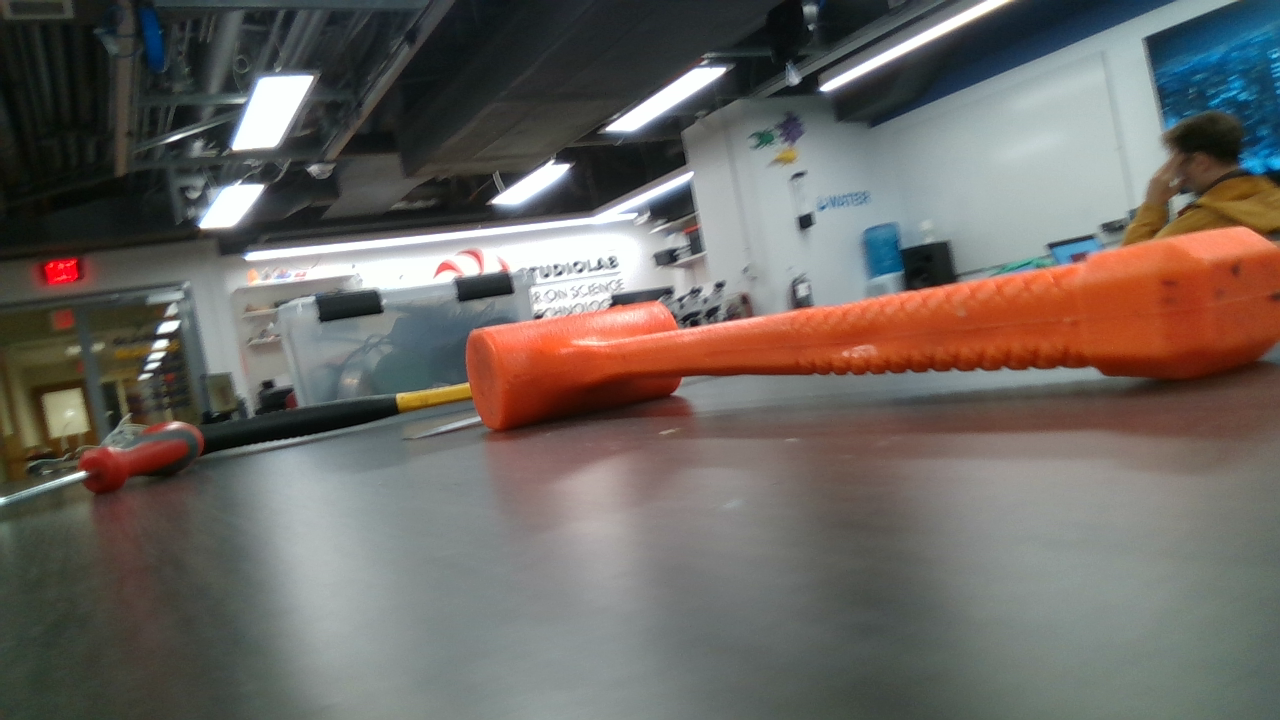Orange Hammer: (475, 228, 1269, 430)
